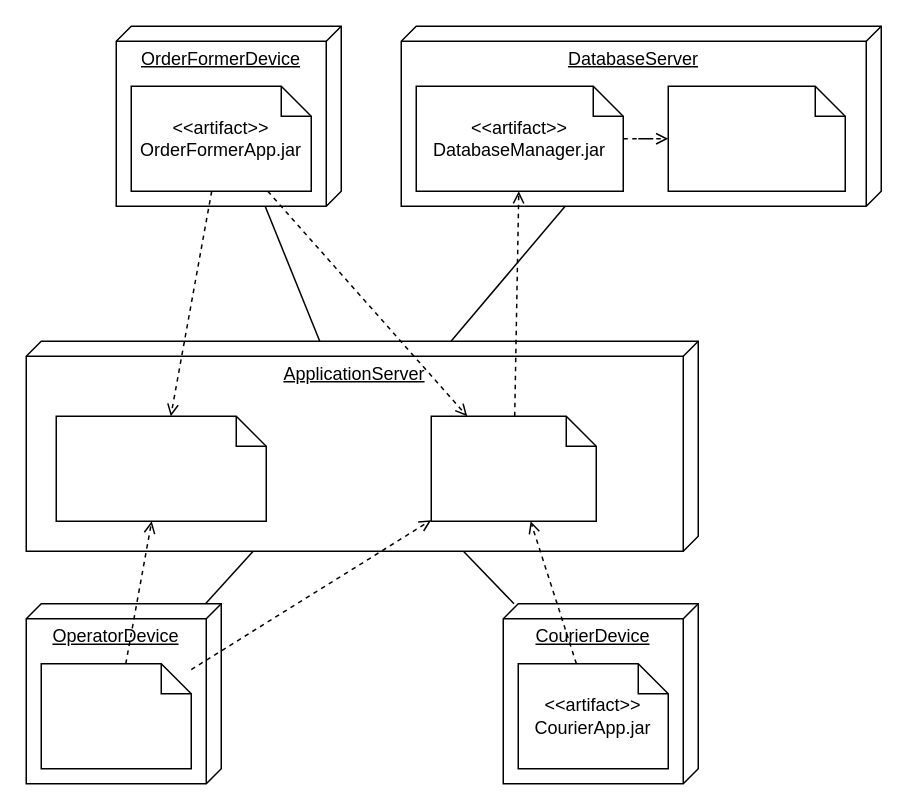
This 908x810 diagram has some shape labels left out. Each missing label, with the centre of its shape:
<<artifact>> KitchenOrderQueue.jar: pixel 160 468
<<artifact>> OperatorApp.jar: pixel 115 715
<<artifact>> order_database.db: pixel 756 138
<<artifact>> OrderActions.jar: pixel 513 468
